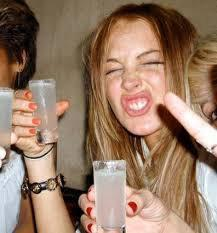Drunk: (100, 20, 169, 134)
